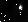person: (18, 4, 24, 14)
